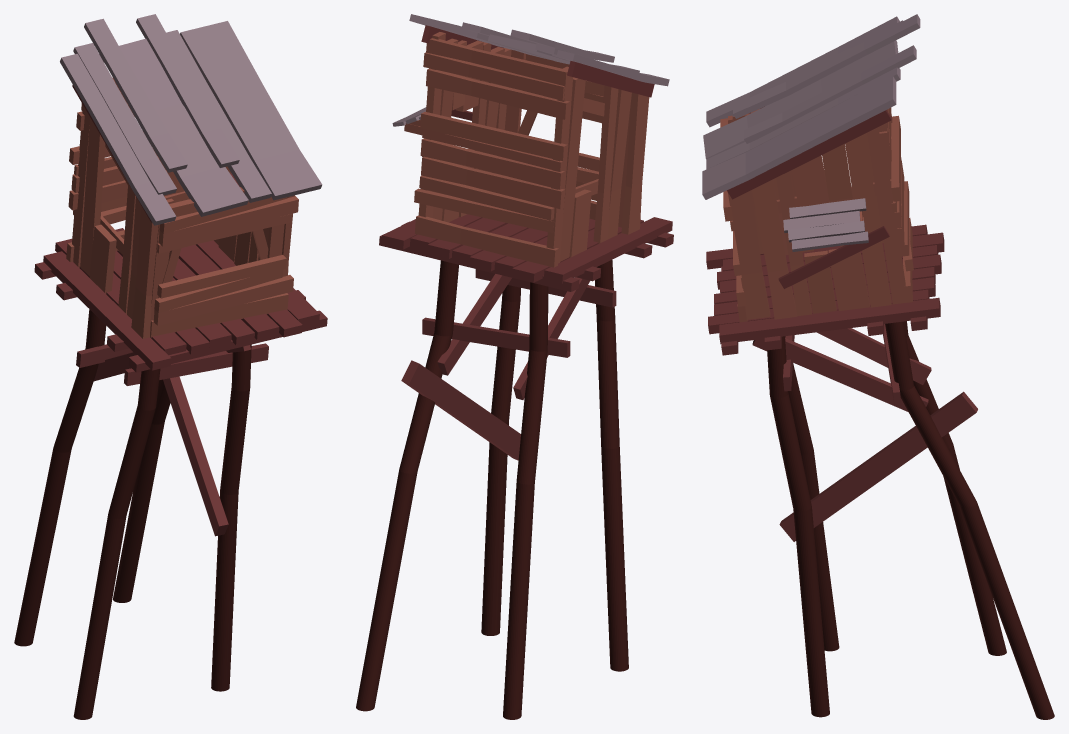
File: Lookout.fbx
3 renders of one model, left to right at view 1: azimuth 30°, elevation 25°; view 2: azimuth 150°, elevation 25°; view 3: azimuth 270°, elevation 25°, orthographic.
Parts seen in each view (by area): view 1: 平面.039, 柱体.002, 平面.045, 柱体, 柱体.003, 平面.053, 柱体.001, 平面.056, 平面.054, 立方体.009, 平面.055, 立方体.016 (+28 smaller); view 2: 柱体.003, 柱体.001, 柱体.002, 柱体, 立方体.016, 平面.038, 平面.046, 平面.048, 平面.043, 平面.047, 立方体.009, 平面.030 (+28 smaller); view 3: 柱体.001, 柱体, 平面.039, 立方体.016, 立方体, 柱体.003, 平面.045, 柱体.002, 平面.003, 平面.001, 平面, 平面.056 (+25 smaller).
Boxes of the visible parts, bbox=[...] form: 平面.039: bbox=[180, 21, 322, 200]; 柱体.002: bbox=[73, 369, 160, 719]; 平面.045: bbox=[99, 38, 248, 216]; 柱体: bbox=[211, 344, 251, 691]; 柱体.003: bbox=[14, 309, 106, 646]; 平面.053: bbox=[60, 53, 176, 225]; 柱体.001: bbox=[113, 379, 170, 602]; 平面.056: bbox=[84, 18, 187, 172]; 平面.054: bbox=[136, 14, 239, 167]; 立方体.009: bbox=[43, 251, 171, 370]; 平面.055: bbox=[73, 43, 176, 195]; 立方体.016: bbox=[163, 376, 228, 536]; 柱体.003: bbox=[503, 282, 548, 719]; 柱体.001: bbox=[356, 260, 458, 711]; 柱体.002: bbox=[595, 260, 628, 671]; 柱体: bbox=[481, 285, 520, 635]; 立方体.016: bbox=[401, 360, 520, 460]; 平面.038: bbox=[414, 215, 559, 267]; 平面.046: bbox=[421, 156, 565, 208]; 平面.048: bbox=[426, 68, 569, 119]; 平面.043: bbox=[420, 111, 567, 160]; 平面.047: bbox=[420, 138, 564, 189]; 立方体.009: bbox=[544, 217, 672, 283]; 平面.030: bbox=[621, 92, 649, 234]; 柱体.001: bbox=[885, 321, 1054, 719]; 柱体: bbox=[767, 336, 829, 717]; 平面.039: bbox=[702, 76, 896, 199]; 立方体.016: bbox=[779, 391, 977, 541]; 立方体: bbox=[719, 297, 940, 344]; 柱体.003: bbox=[903, 321, 1006, 655]; 平面.045: bbox=[703, 40, 898, 159]; 柱体.002: bbox=[785, 336, 839, 651]; 平面.003: bbox=[845, 134, 891, 307]; 平面.001: bbox=[752, 179, 797, 319]; 平面: bbox=[728, 190, 770, 319]; 平面.056: bbox=[747, 14, 920, 112].
Bounding box in the file's own units: 325 × 942 × 458.
